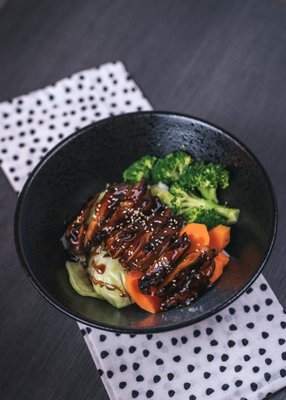curry: (123, 150, 240, 228)
sushi: (19, 95, 276, 334)
